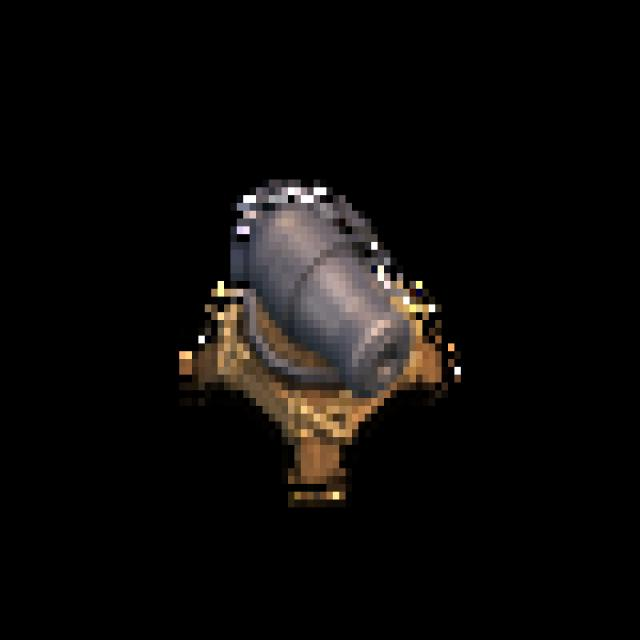cannon: (130, 155, 474, 522)
